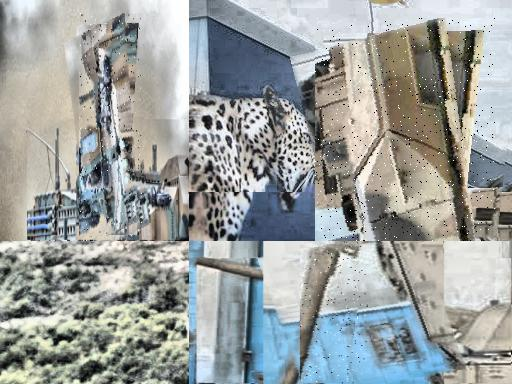tanks: (316, 19, 483, 242), (80, 14, 143, 238), (378, 242, 467, 369), (302, 242, 369, 384)
